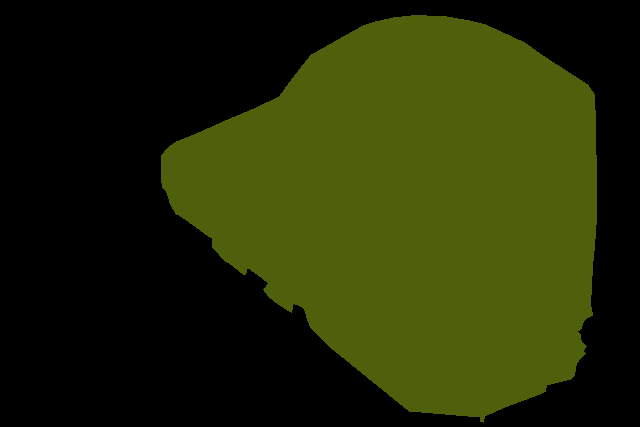Train: (161, 15, 597, 423)
